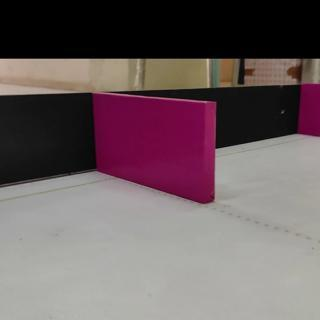xparking: (95, 105, 215, 185), (301, 84, 318, 134)
